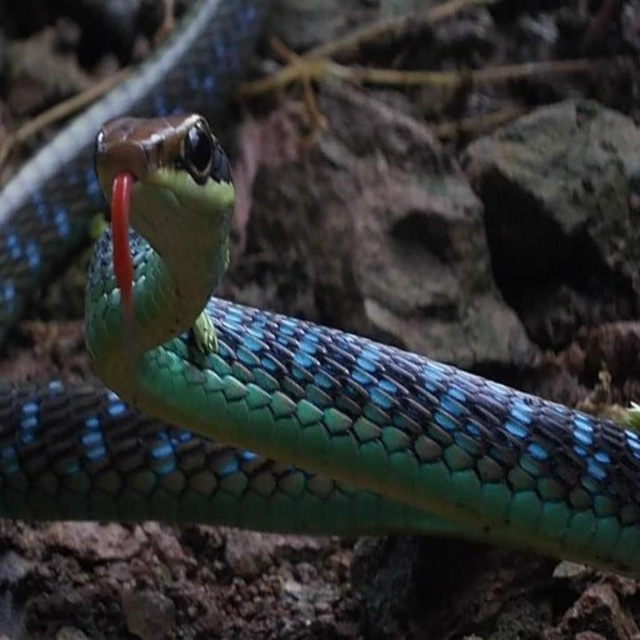Snake: (0, 0, 639, 590)
